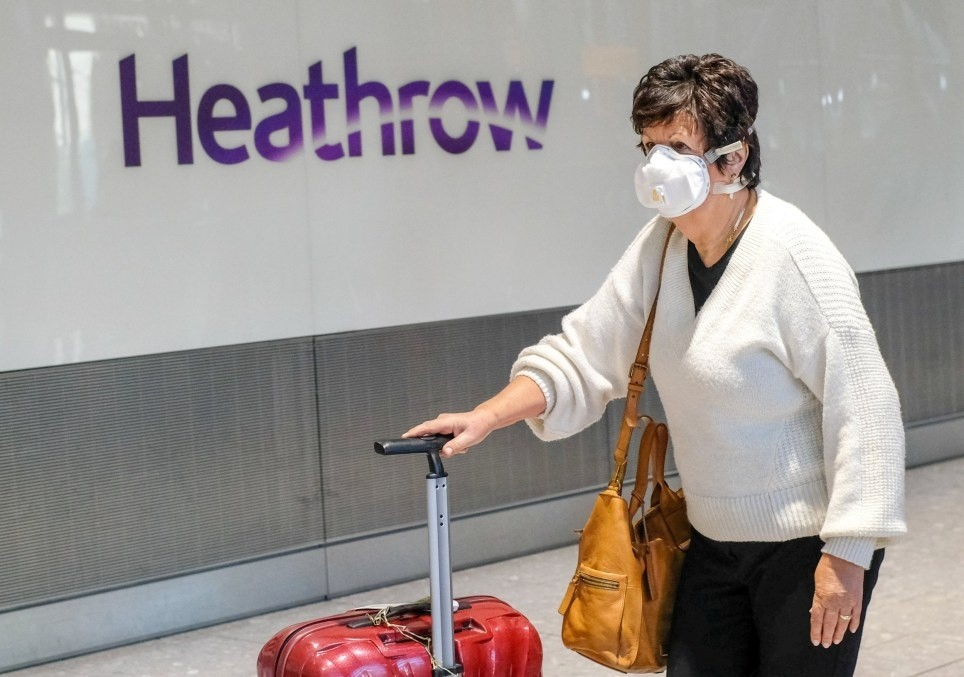face_with_mask: (621, 79, 755, 240)
